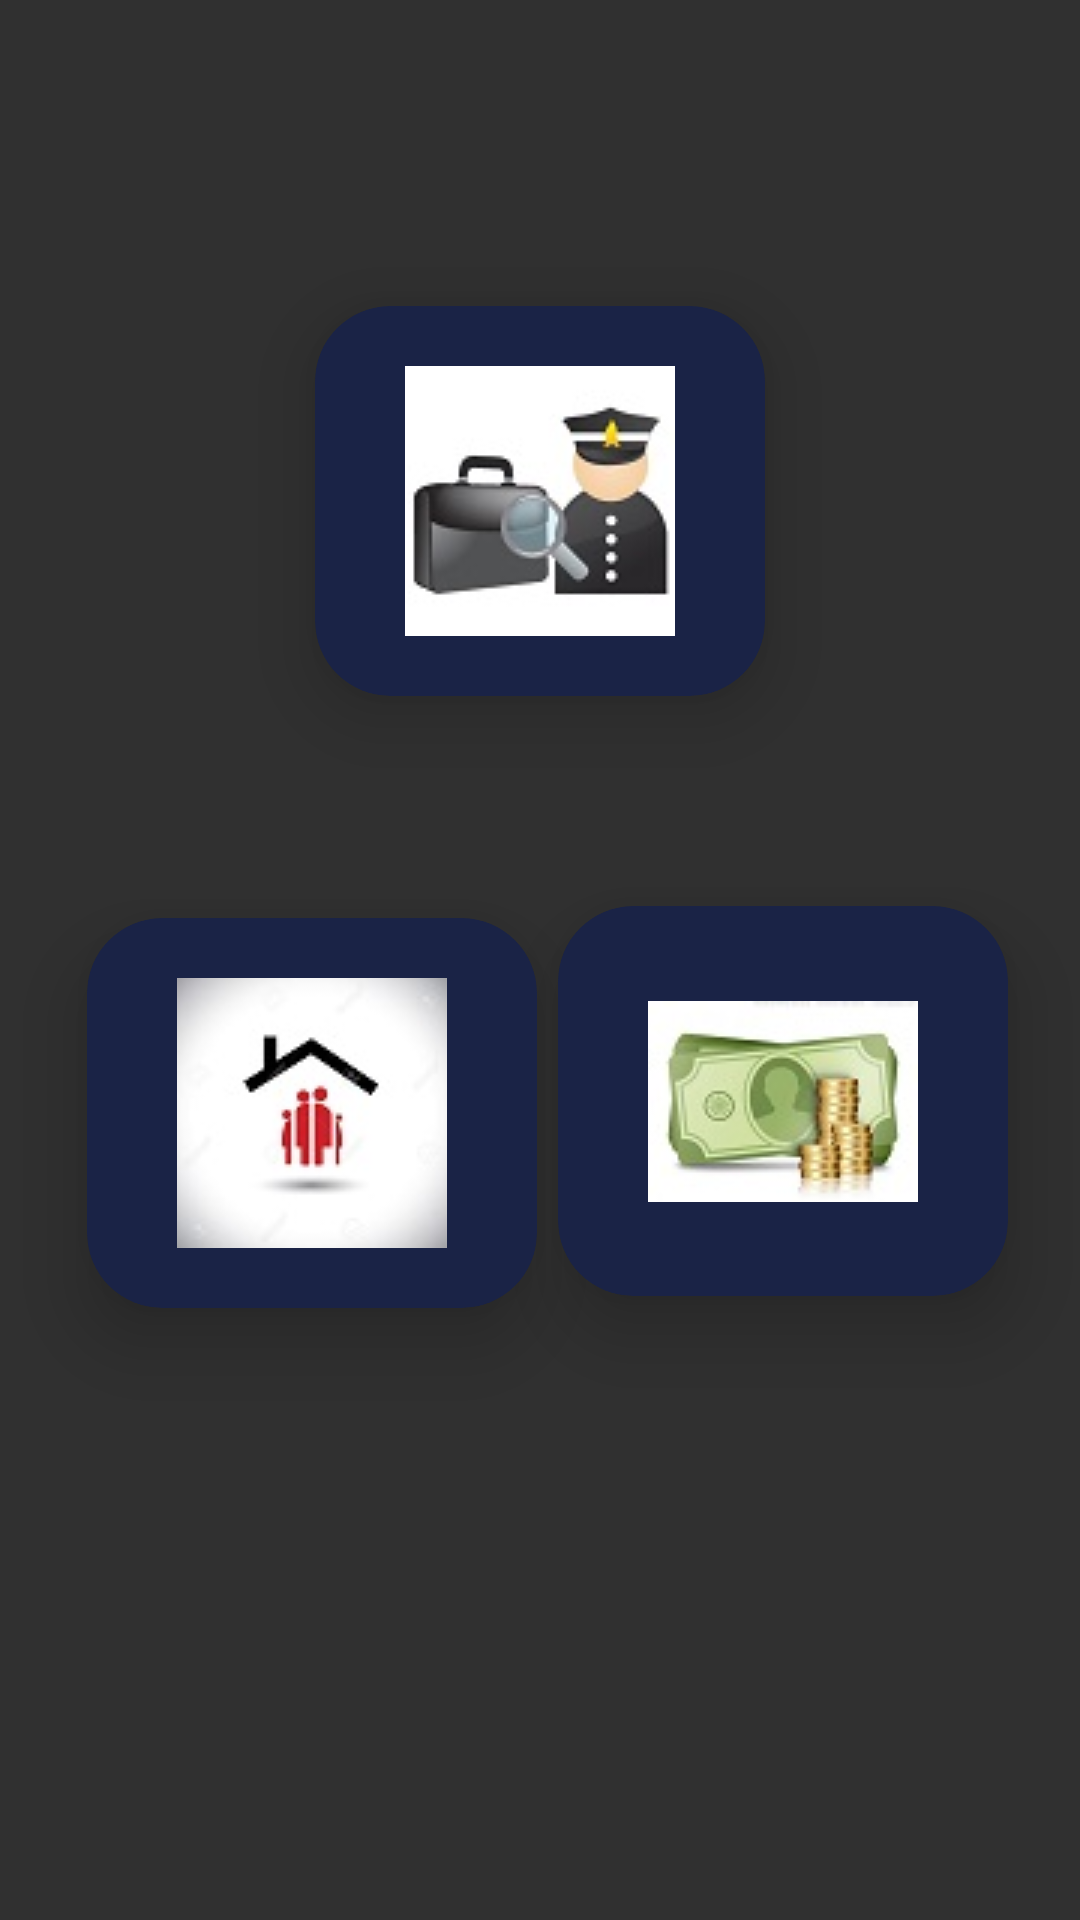

Point at icon controls on the screen. Image size 1080px x 1920px, points as [x,y].
contibancari: [783,1101]
lavoro: [540,501]
personale: [312,1113]
